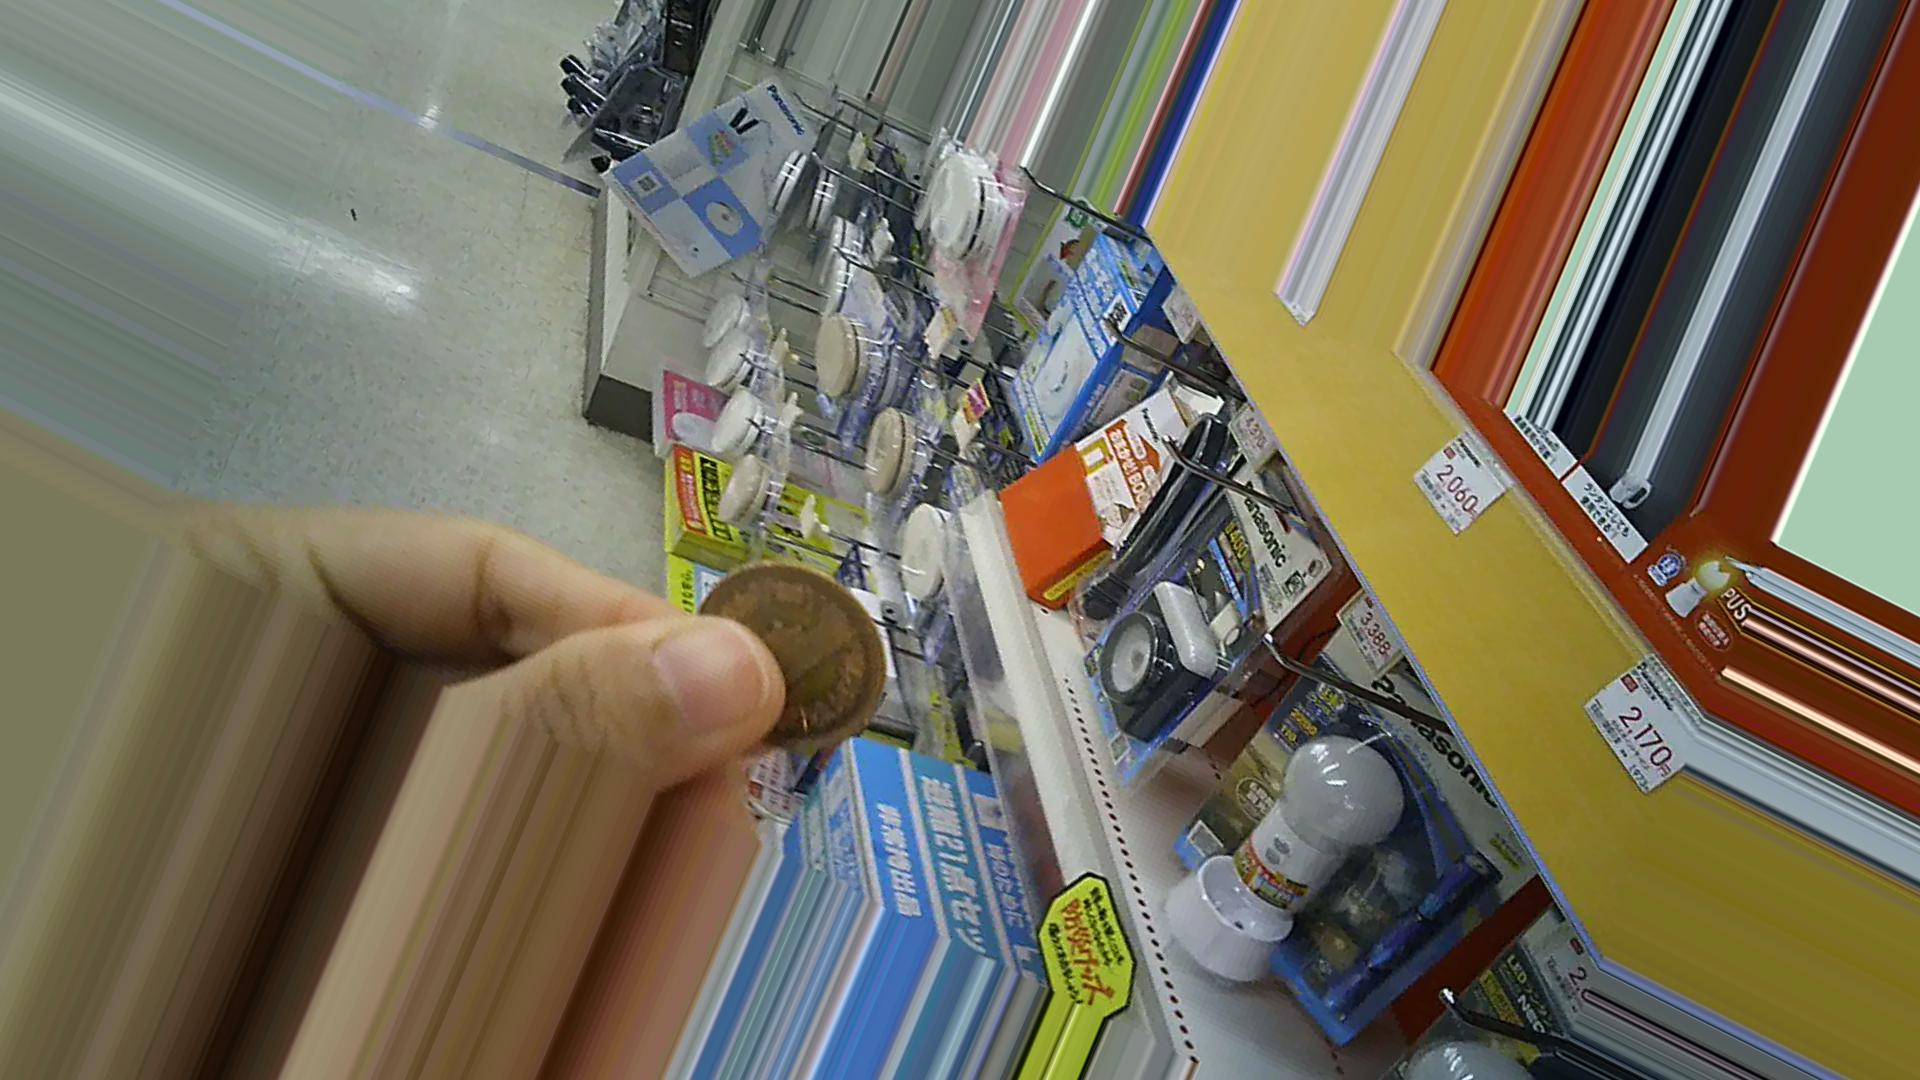10 Yen: (694, 543, 877, 752)
